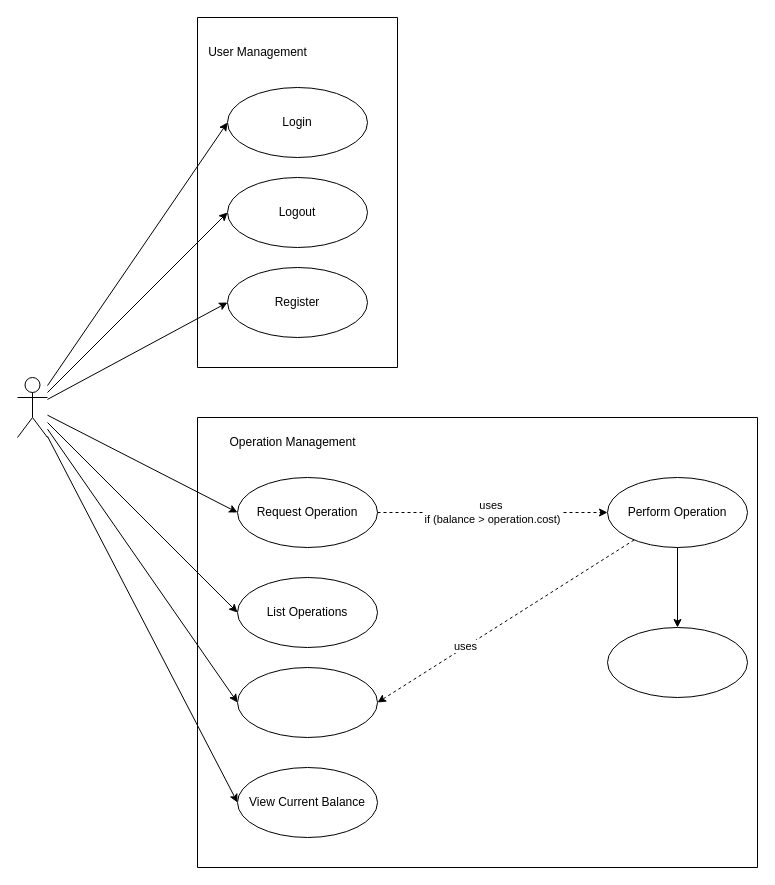
The diagram is 775 pixels wide and 885 high, and some of its shapes have lost their labels. The shapes that lost their labels are listed below. From the top down, each one's centre as x and y in pixels, then its label:
the point at 32,407: User
the point at 677,662: Update Balance
the point at 307,702: View Operation
